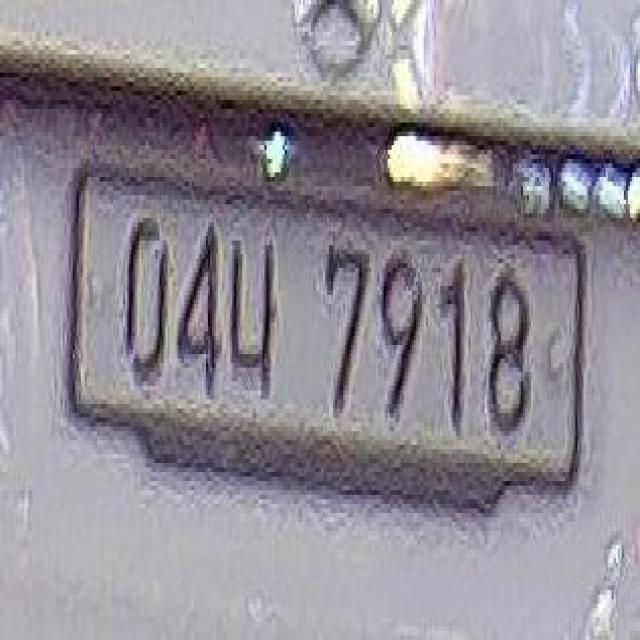illegal_plate: (75, 164, 586, 531)
